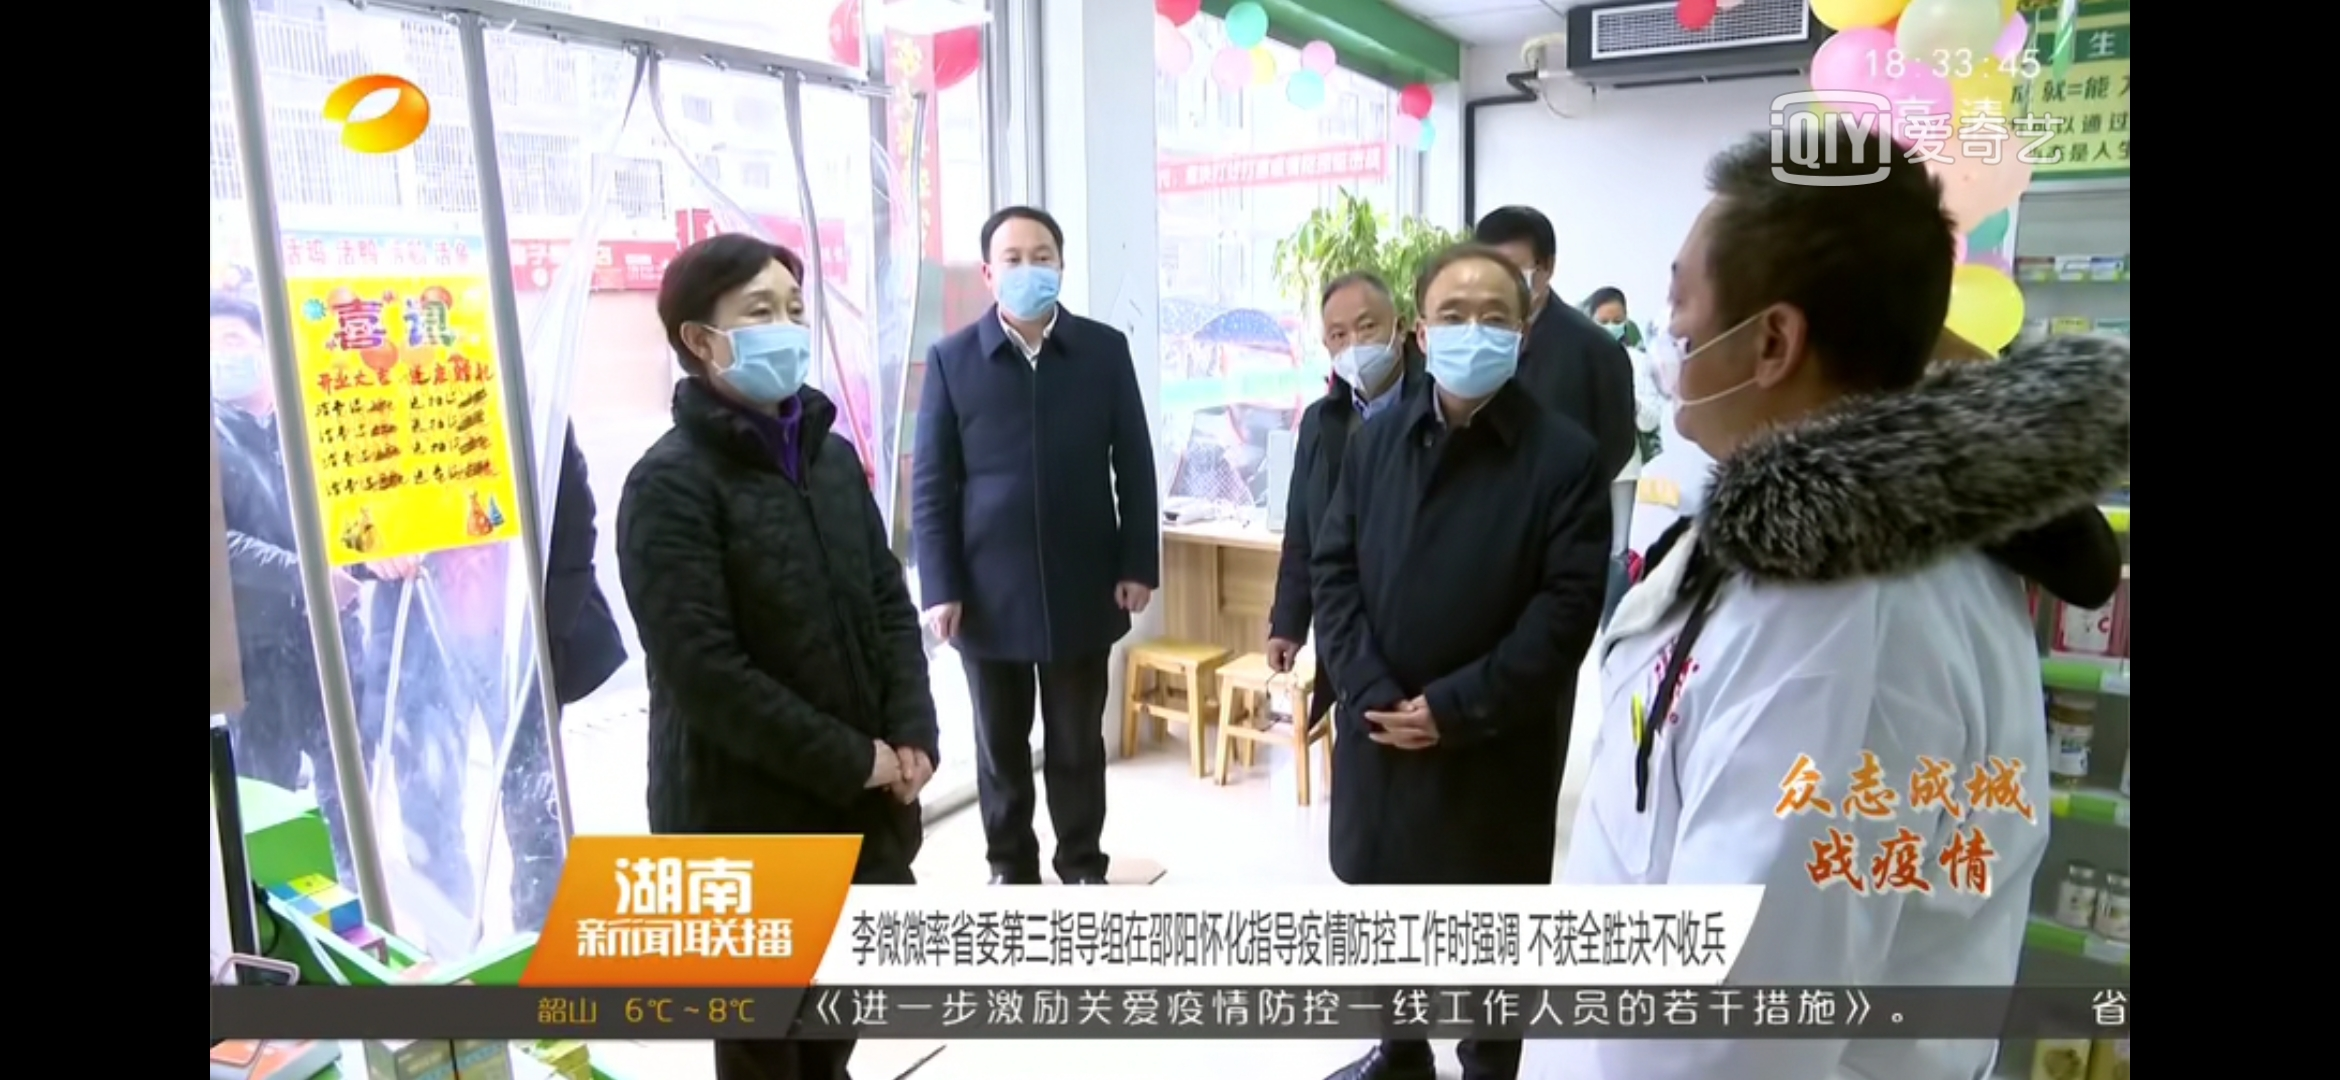correctlyWear: (1649, 224, 1809, 450), (678, 283, 816, 403), (1412, 285, 1527, 401), (1313, 297, 1412, 398), (982, 236, 1067, 328), (1586, 292, 1639, 340)
